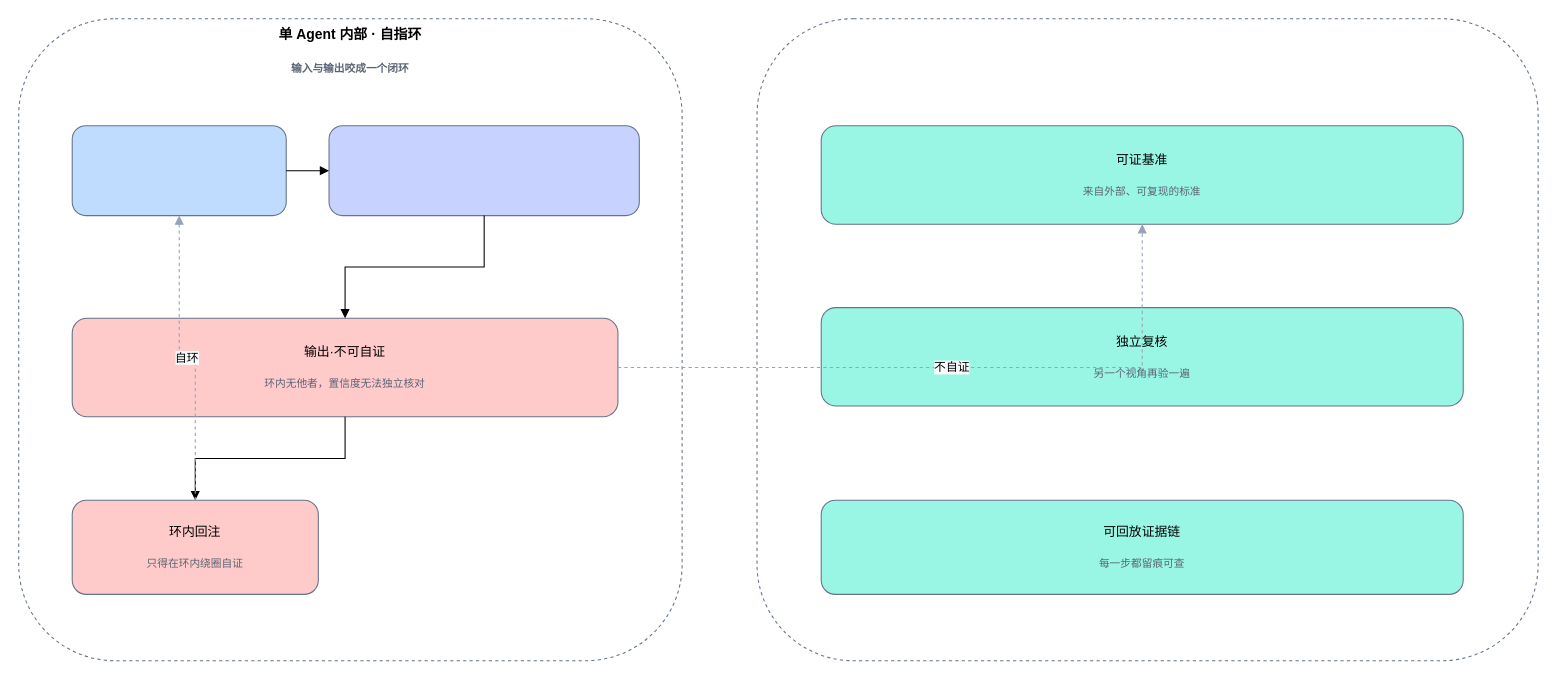
Some shapes in this 1557 by 679 pixel diagram are drawn without their labels. The shapes that lost their labels are listed below. From the top down, each one's box as (x1, y1, x2, y2) in pixels, then its label:
(71, 125, 286, 216): 输入一次 自指判定接收外部世界
(328, 125, 639, 216): 自指判定 用自己的标准裁自己
(756, 18, 1538, 661): 外部可证参照 跳出自指的第三只手
